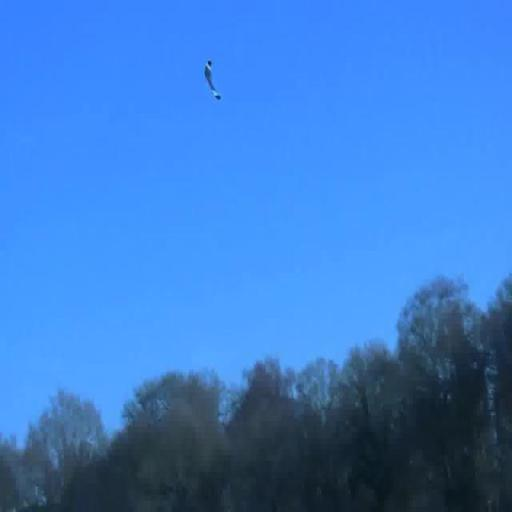uav: (202, 52, 224, 114)
